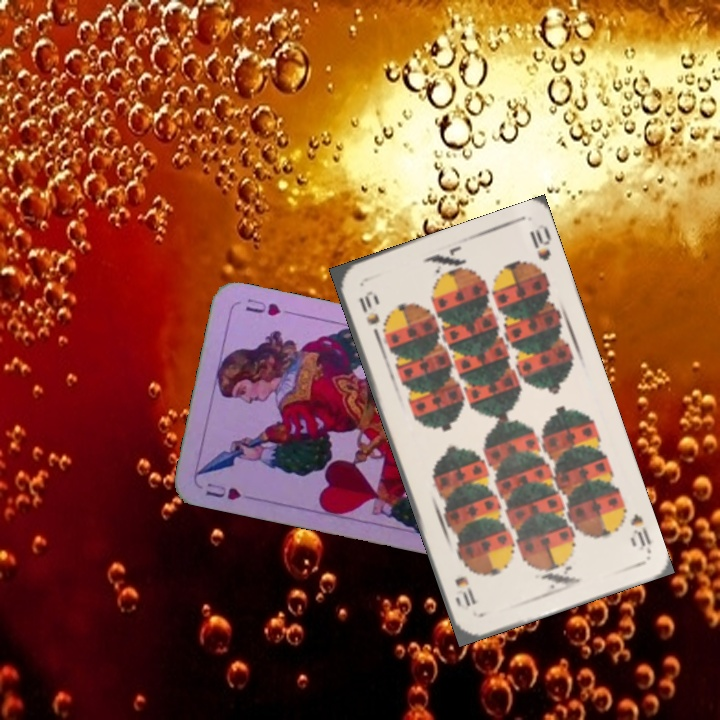HU: (202, 478, 243, 503)
S10: (354, 287, 383, 341), (626, 510, 654, 554)
